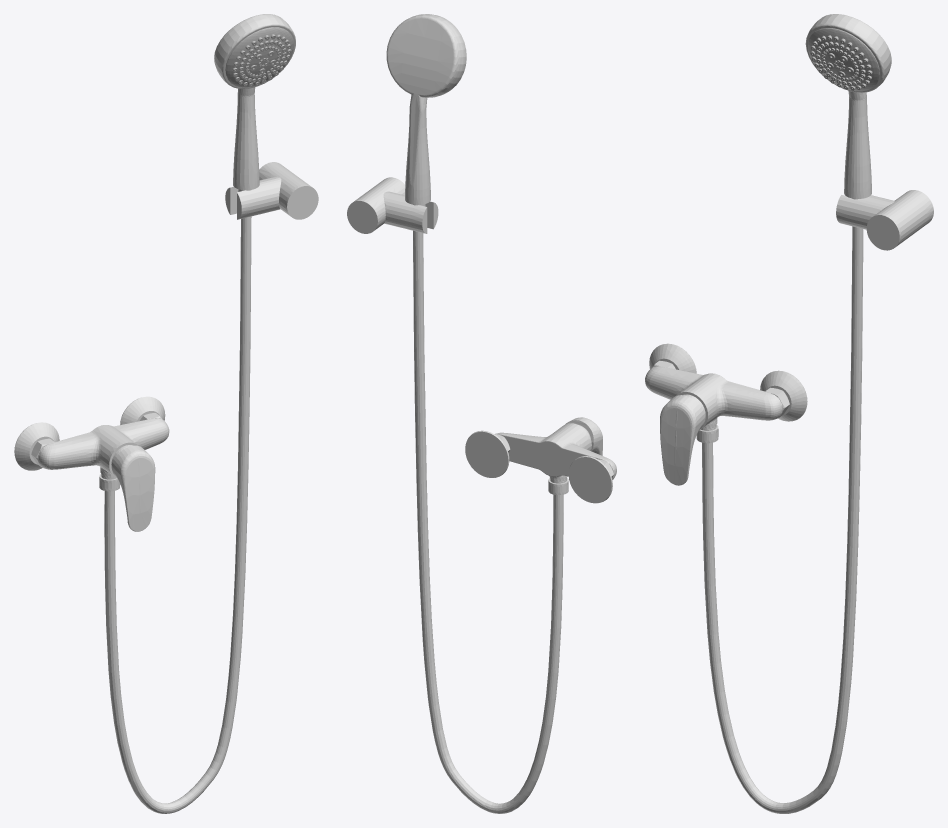
File: AEC_49646.glb
3 renders of one model, left to right at view 1: azimuth 30°, elevation 25°; view 2: azimuth 150°, elevation 25°; view 3: azimuth 330°, elevation 25°, orthographic. The views are drawn at different scales.
Parts seen in each view (by area): view 1: 0; view 2: 0; view 3: 0.
Part boxes in pixels (left/top/right/bottom): 0: left=14, top=14, right=318, bottom=813; 0: left=347, top=14, right=616, bottom=813; 0: left=645, top=14, right=933, bottom=813.
Bounding box in the file's own units: 0.382 × 1.06 × 0.1247.
1 material, 1 textured.
